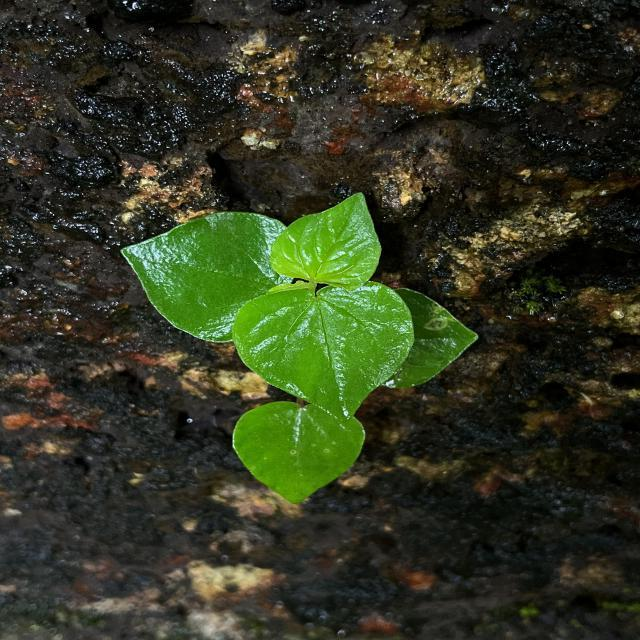Peperomia pellucida: (229, 277, 417, 424), (118, 208, 300, 344), (268, 189, 386, 293)
